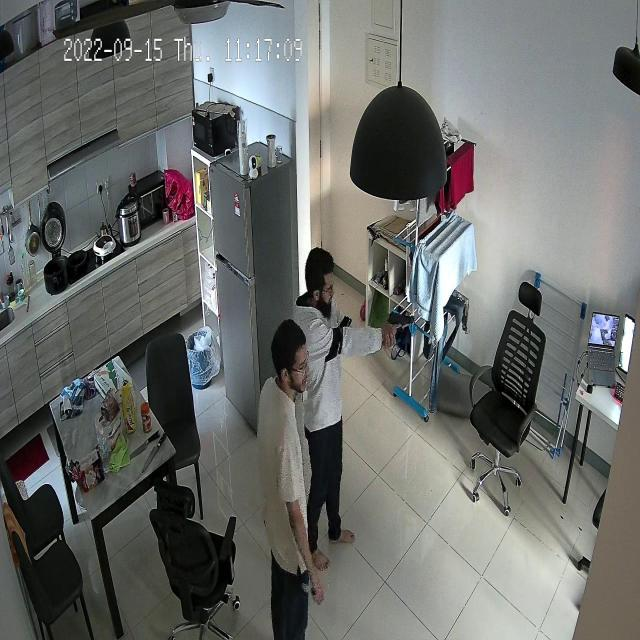Gun: (382, 308, 428, 352)
Knife: (296, 576, 336, 606)
